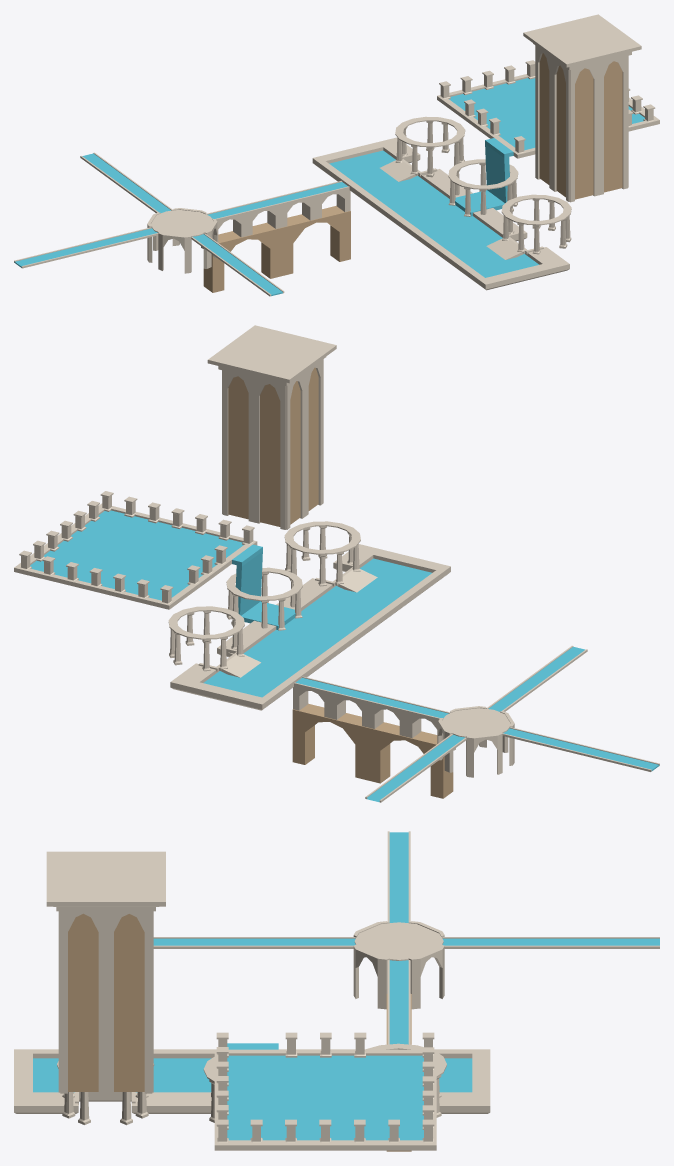
File: knightbossenv.fbx
3 renders of one model, top to bottom at view 1: azimuth 30°, elevation 25°; view 2: azimuth 150°, elevation 25°; view 3: azimuth 270°, elevation 25°, orthographic. The views are drawn at different scales.
Visible parts, largest first — view 1: assets.012, assets.004, arena; view 2: assets.012, assets.004, arena; view 3: assets.012, arena, assets.004.
Boxes of the visible parts, <box> form: assets.012: <box>312,14,641,290</box>; assets.004: <box>14,152,350,296</box>; arena: <box>437,60,659,158</box>; assets.012: <box>168,325,450,710</box>; assets.004: <box>292,645,659,802</box>; arena: <box>14,491,257,609</box>; assets.012: <box>14,851,490,1125</box>; arena: <box>214,1032,436,1150</box>; assets.004: <box>153,831,659,1151</box>.
Size of the model in its own units: 19958 by 8721 by 14116.
